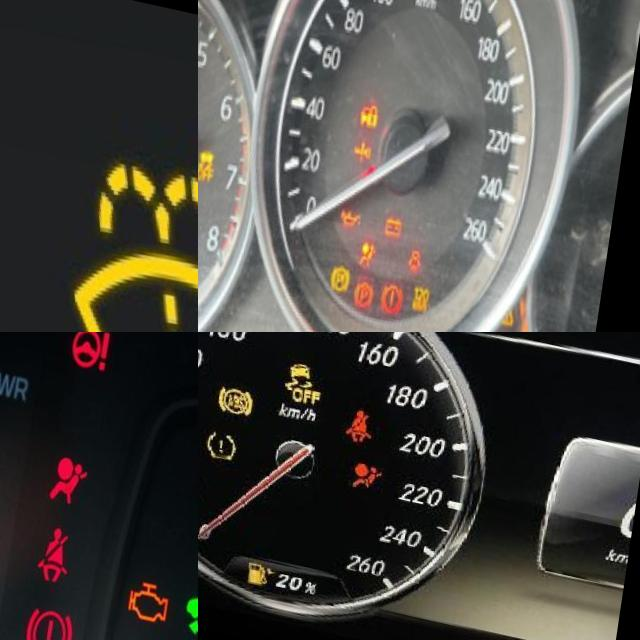Electronic Power Steering: (68, 332, 117, 362)
Seat Belt: (44, 508, 81, 575)
Washer Fluid: (63, 139, 198, 332)
